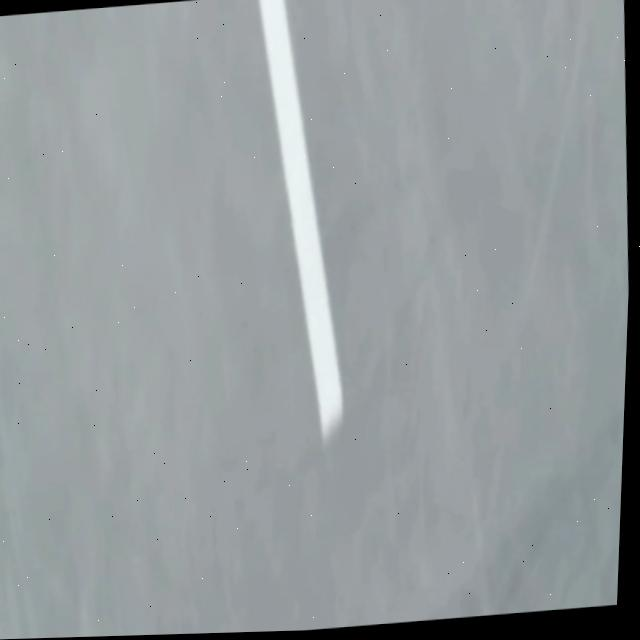center: (258, 0, 341, 439)
